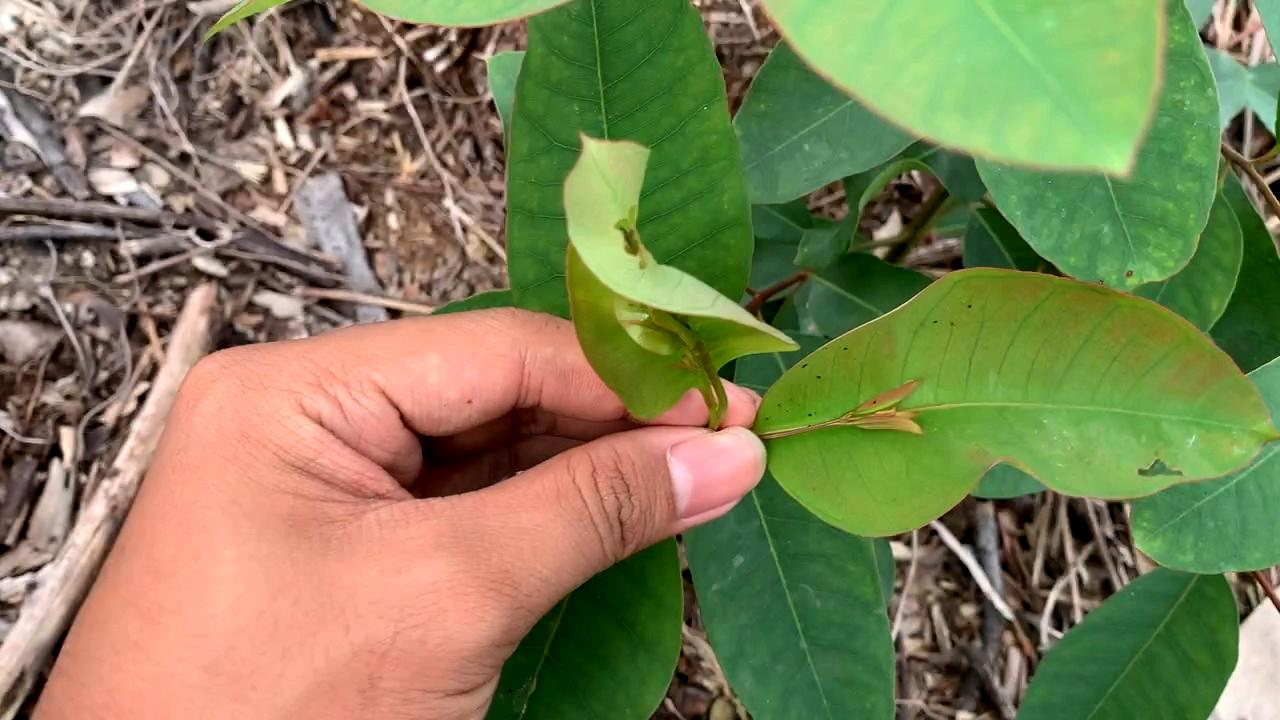Leaf Roller - Leaf: (550, 133, 803, 422)
